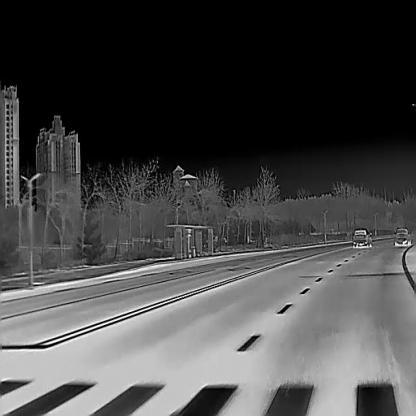car: (352, 227, 372, 246), (393, 226, 412, 245)
